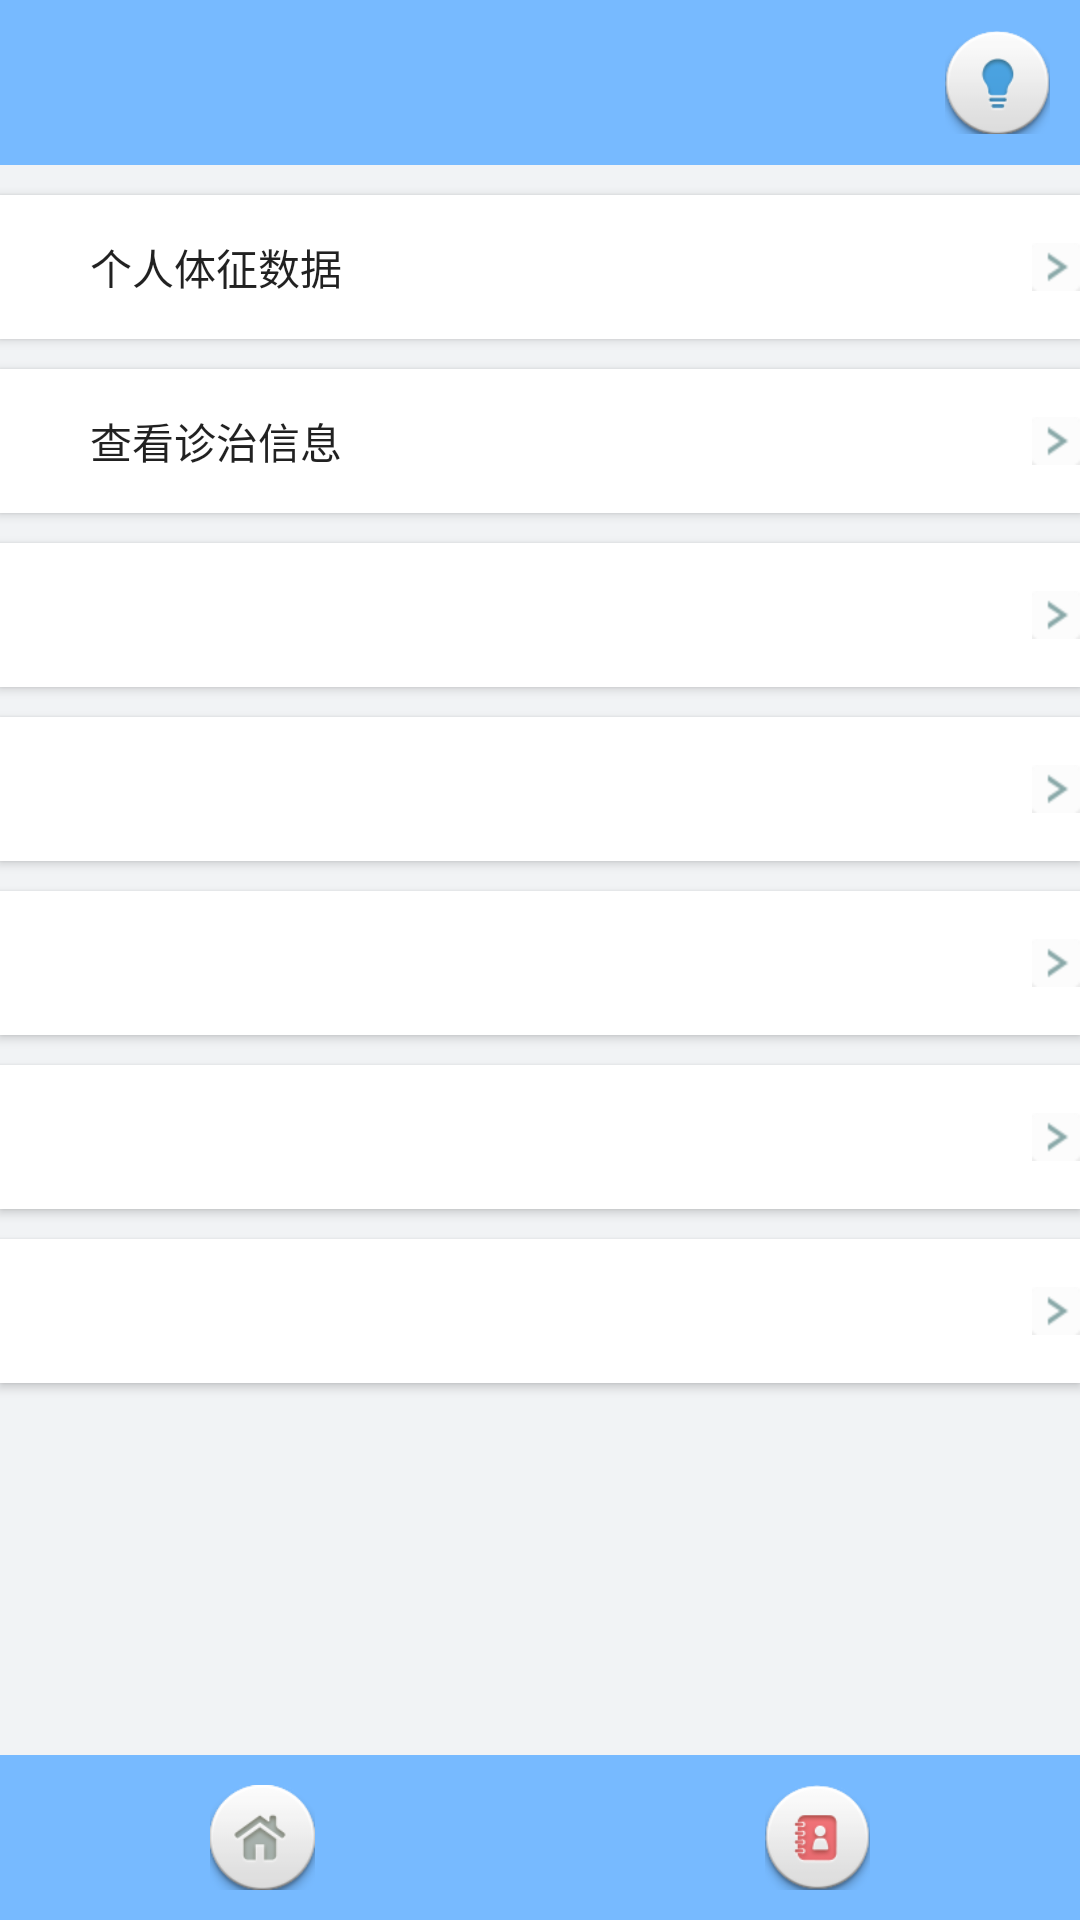

Screen size 1080 × 1920. Icon name, then its box in pixels as (x1, y1, x2, y2):
home: (210, 1785, 315, 1890)
